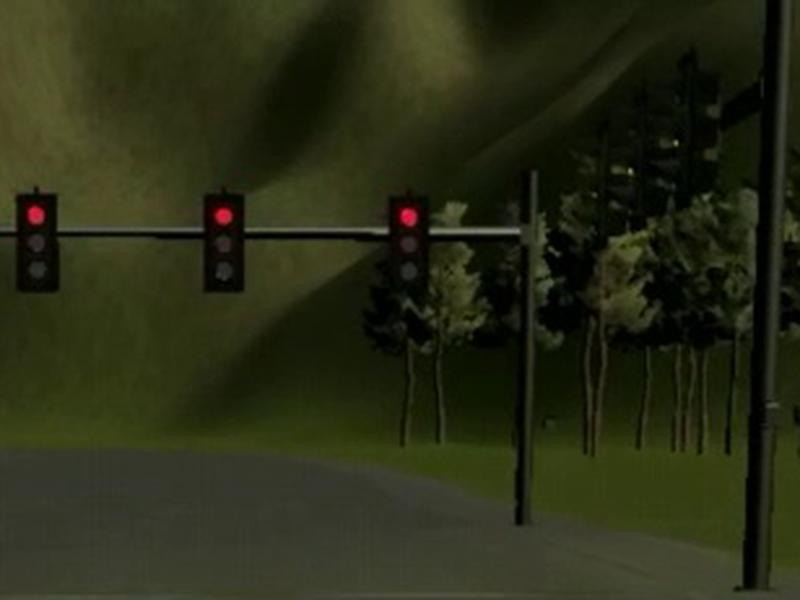Red: (203, 192, 245, 293), (18, 196, 59, 292), (391, 197, 429, 295)
